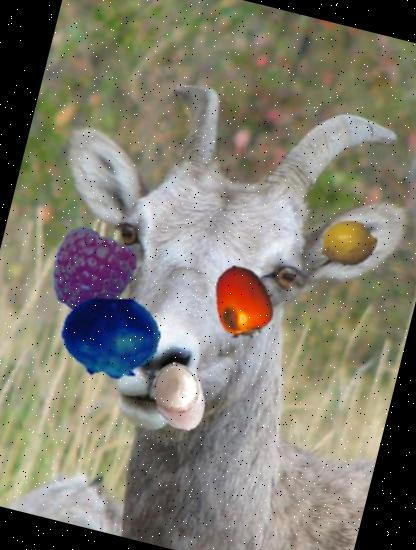Hazelnut: (137, 354, 223, 441)
Huckleberry: (51, 279, 171, 399)
Kaki: (199, 257, 289, 346)
Lemon: (314, 209, 384, 280)
Raspberry: (40, 220, 144, 324)
